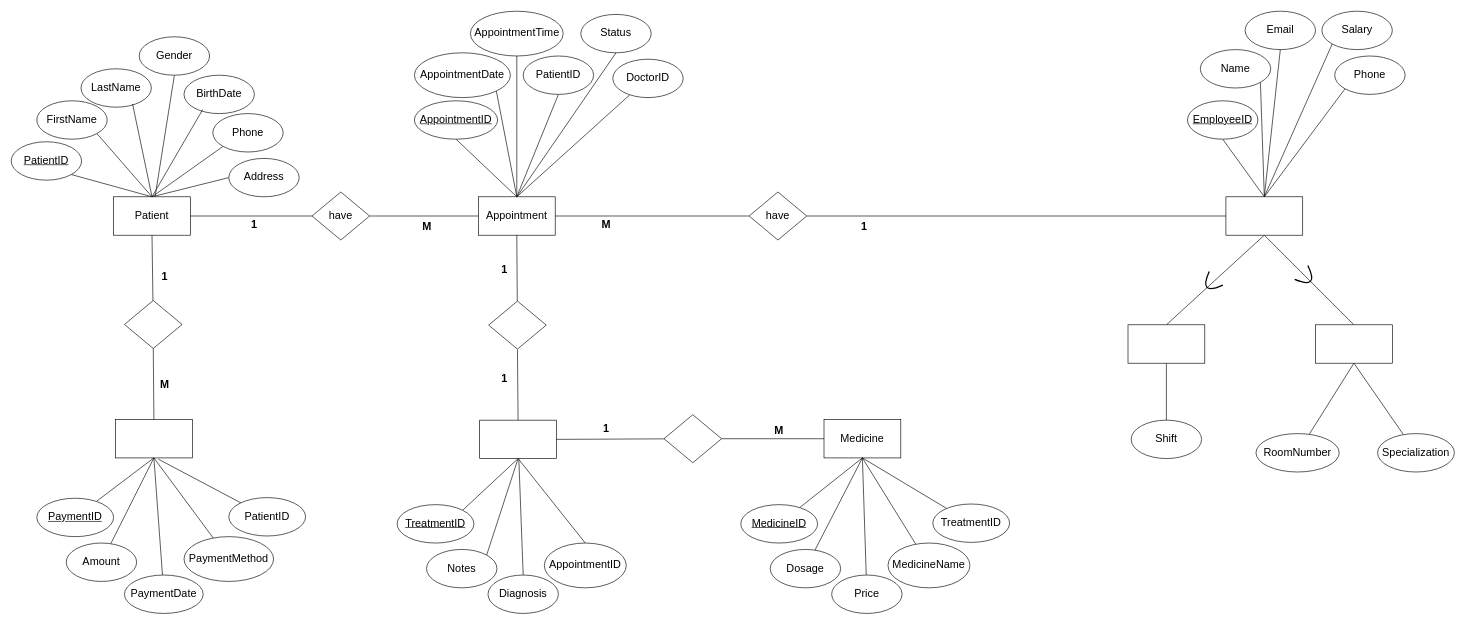
Image size: 1466x625. Some labels were removed from this diagram. The shapes that lost their labels are listed below. From the top down, each one's centre as x and y in pixels, then its label:
At (x=1264, y=215): "Employee".
At (x=153, y=324): "make".
At (x=517, y=324): "results".
At (x=1166, y=343): "Receptionist".
At (x=1353, y=343): "Doctor".
At (x=153, y=438): "Payment".
At (x=517, y=439): "Treatment".
At (x=692, y=438): "contain".
